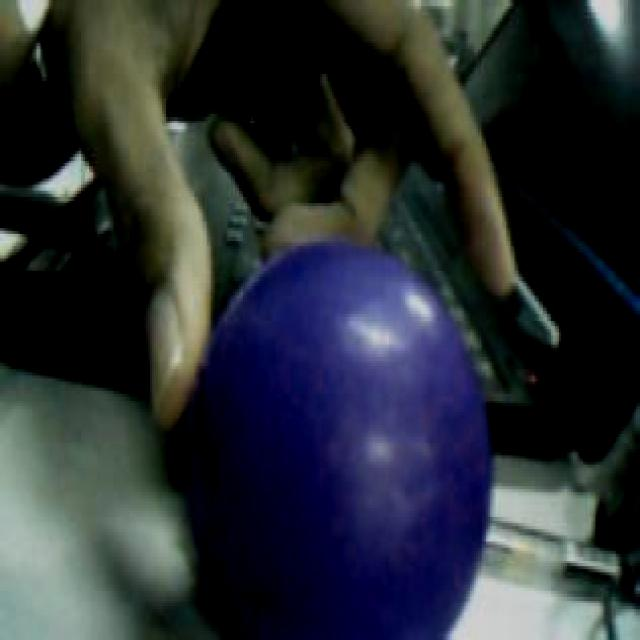BallPurple: (186, 234, 492, 640)
